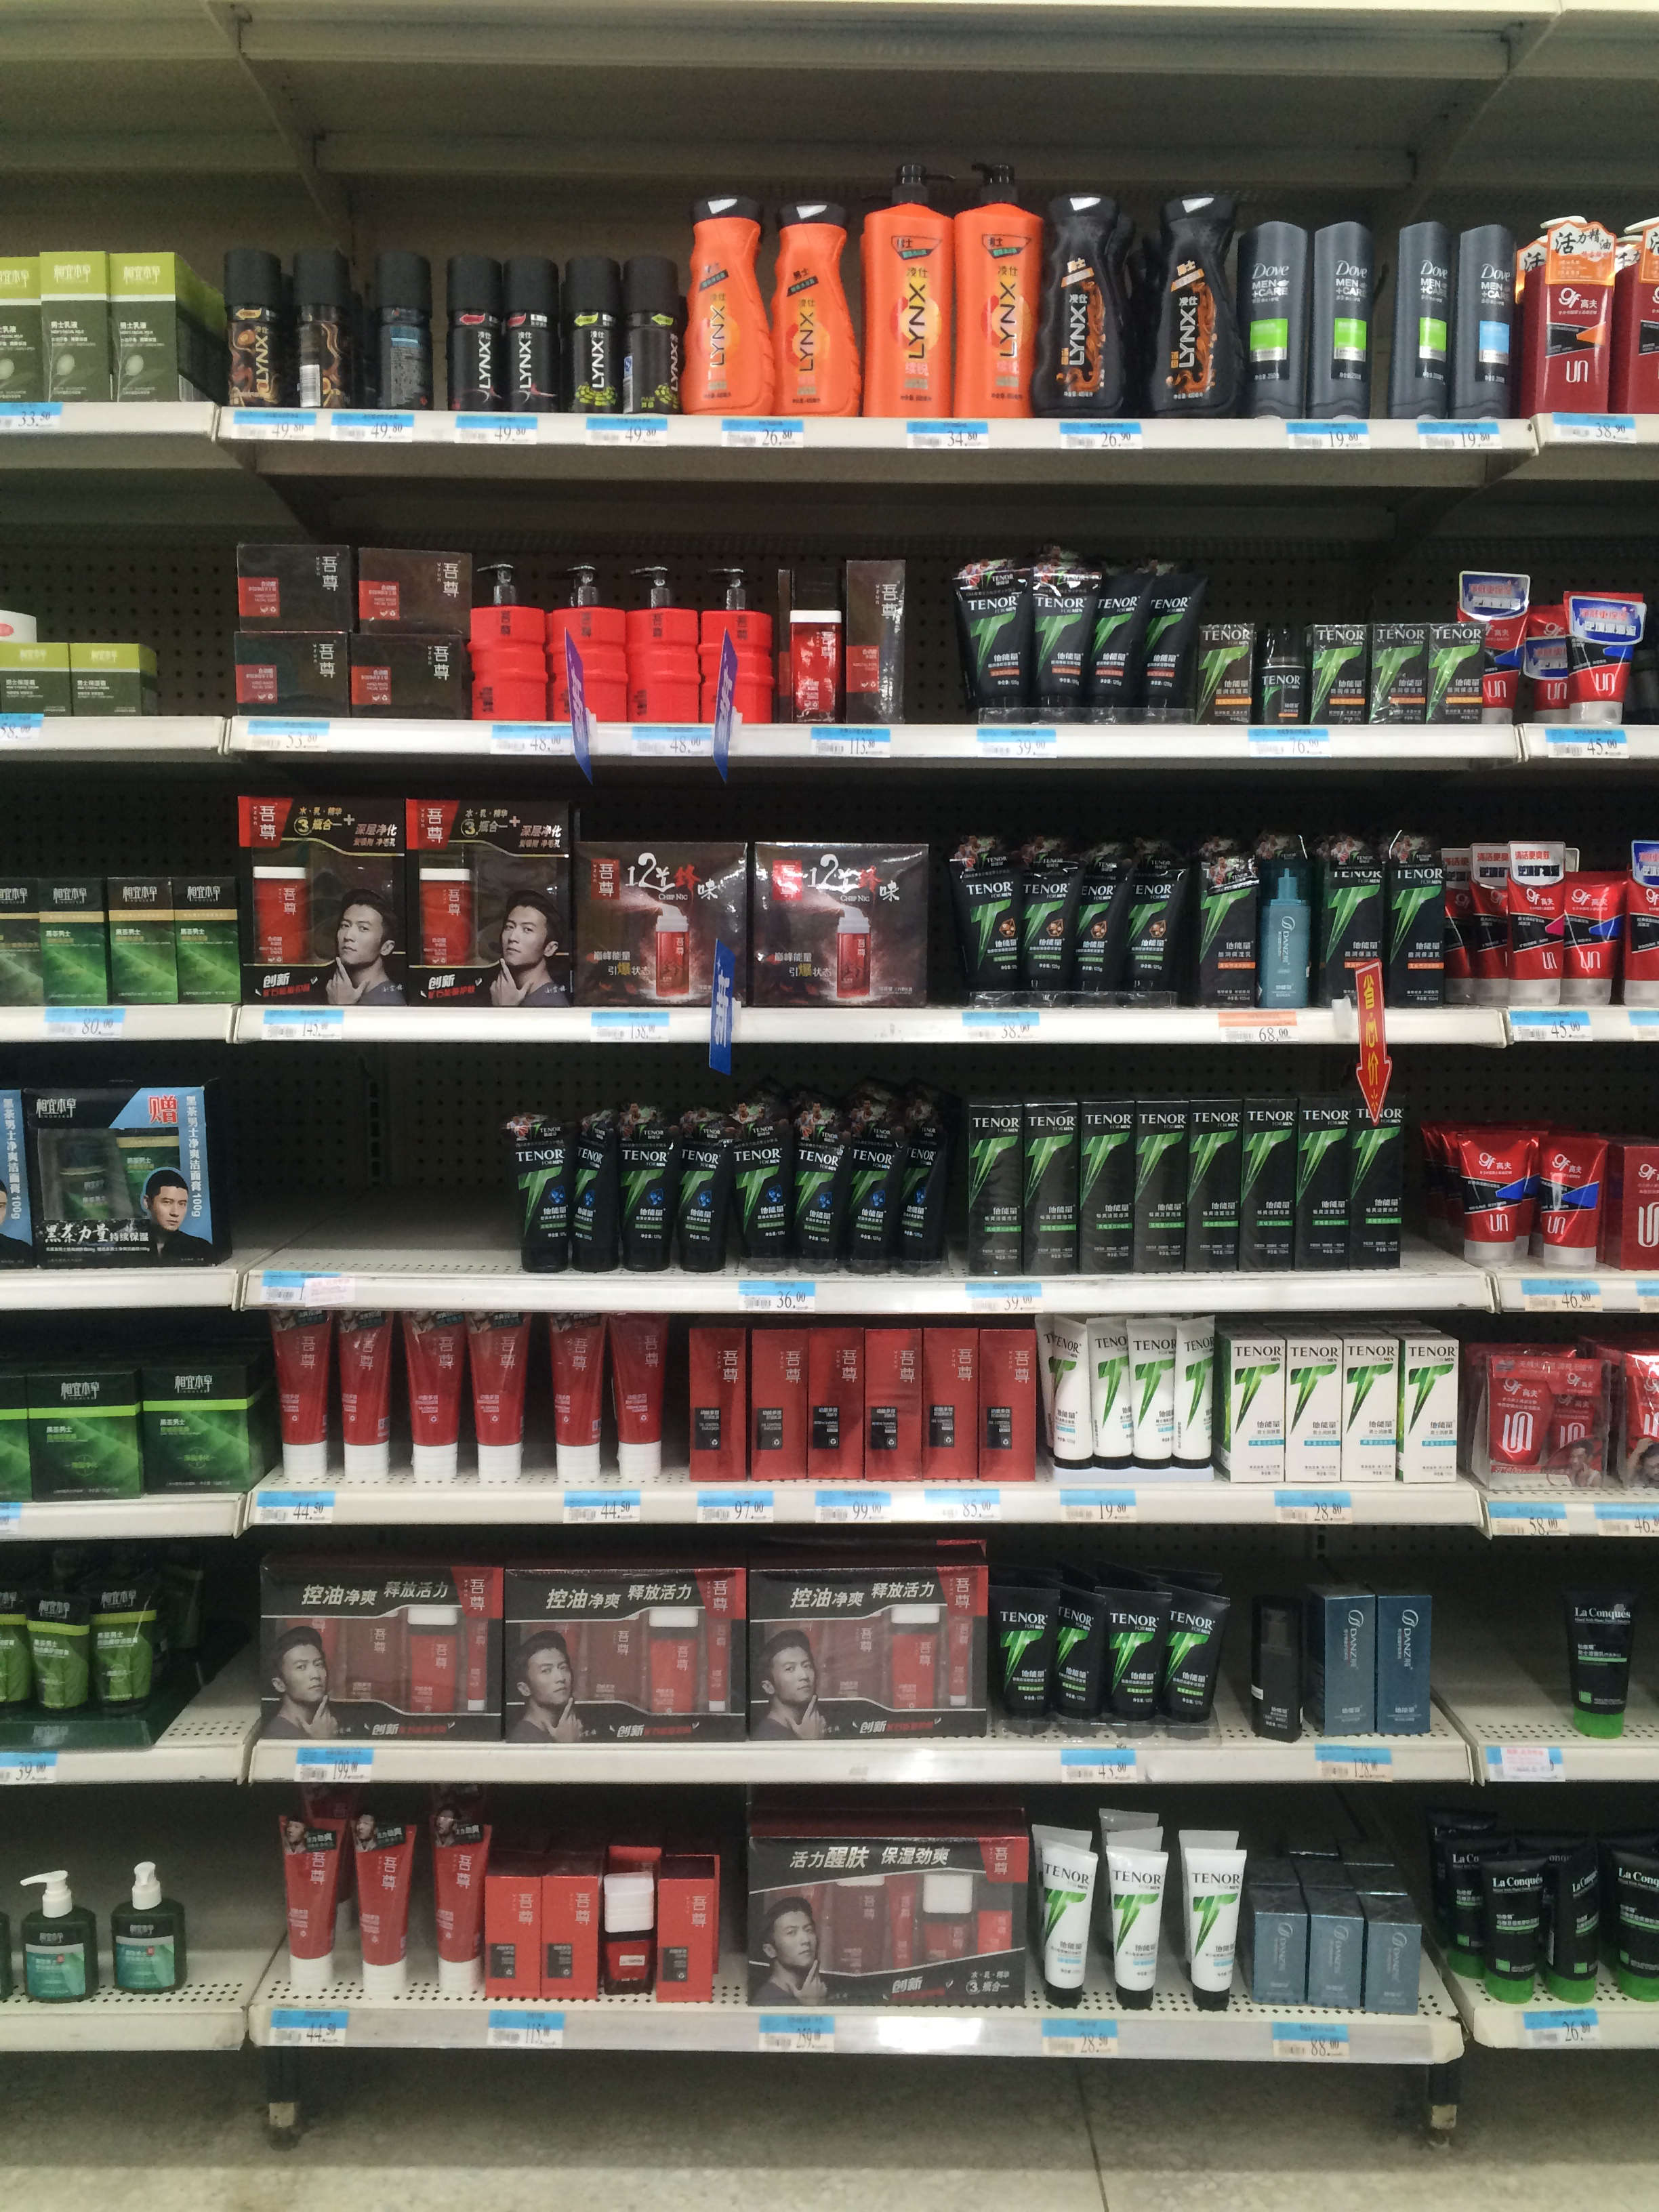Out-of-stock: (251, 1045, 518, 1271)
